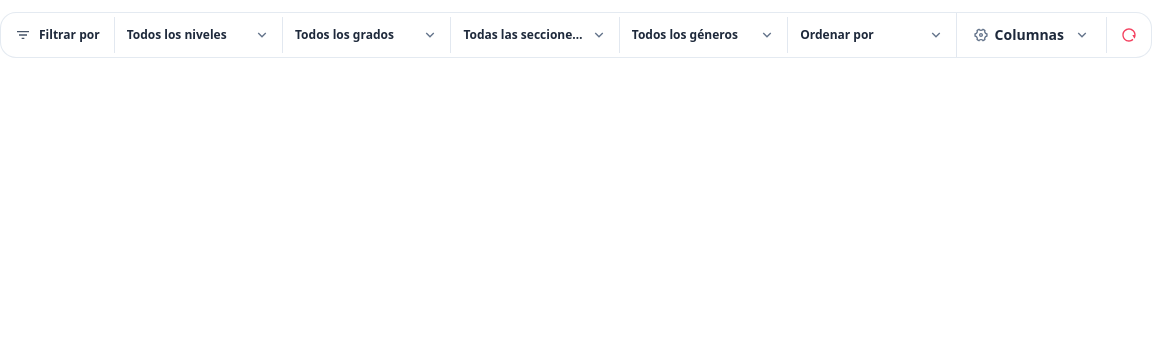
Test: DirectorFiltrosBar Component › muestra todas las opciones de grado cuando la evaluación no tiene grado asignado
The image size is (1164, 349).
Note: Al abrir el dropdown
Click the button with aria-label "Grado: Todos los grados" at (367, 35), box [283, 17, 450, 53]
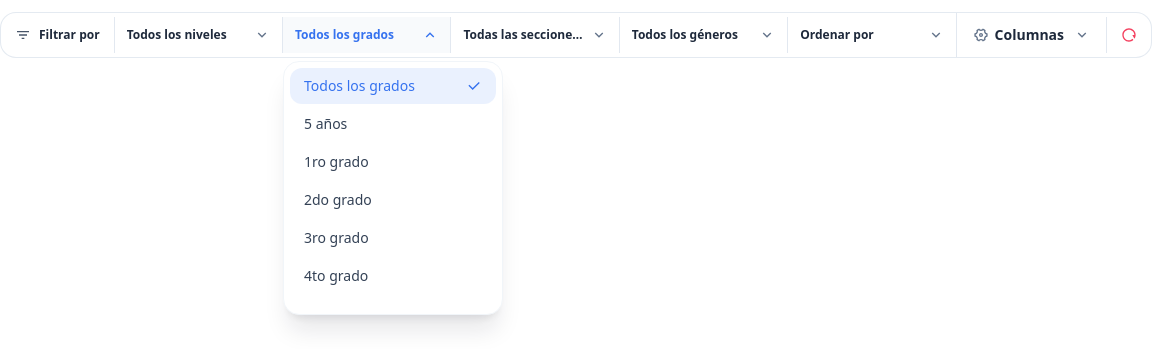
Check: the text "1ro grado" is shown, box [304, 152, 369, 172]
